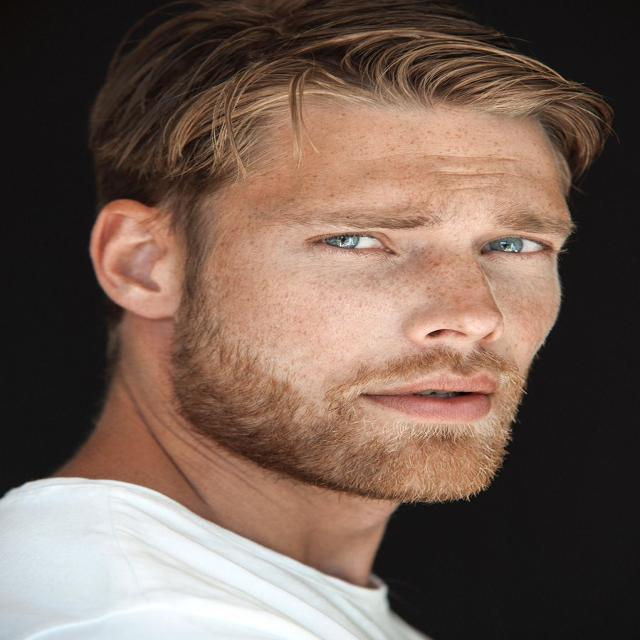front: (287, 187, 574, 473)
